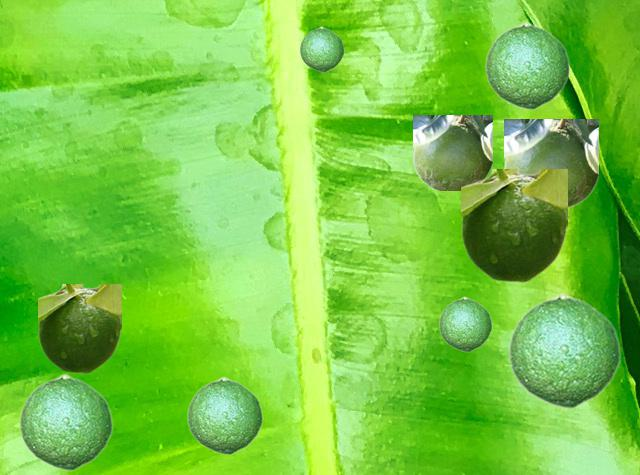dalandan: (507, 292, 620, 408), (461, 169, 566, 281), (18, 373, 112, 470), (504, 119, 597, 207), (484, 21, 569, 109), (38, 284, 120, 372), (186, 376, 262, 454), (413, 115, 491, 189), (438, 296, 491, 351), (299, 26, 343, 71)
